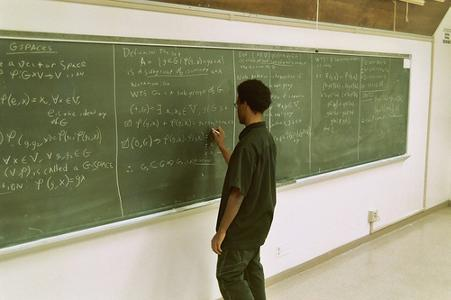person: (212, 80, 278, 300)
